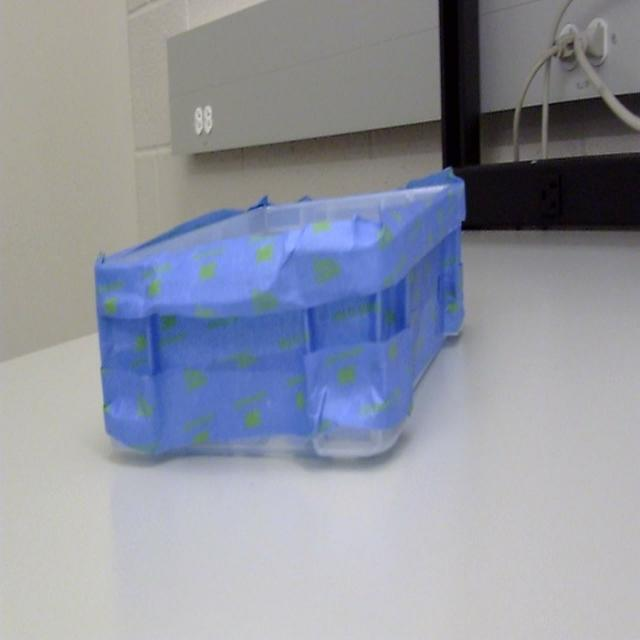bucket: (91, 160, 468, 473)
